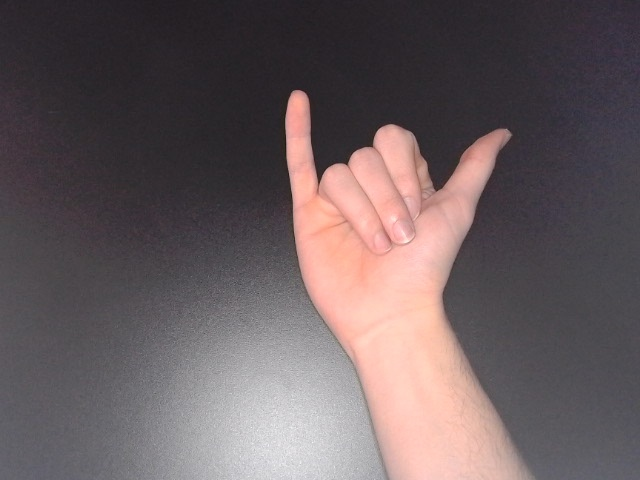y: (279, 84, 515, 361)
